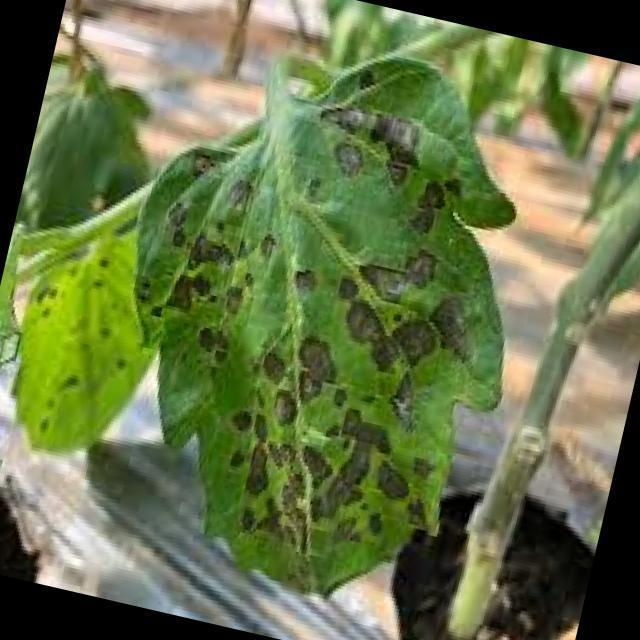Septoria: (104, 68, 507, 618)
